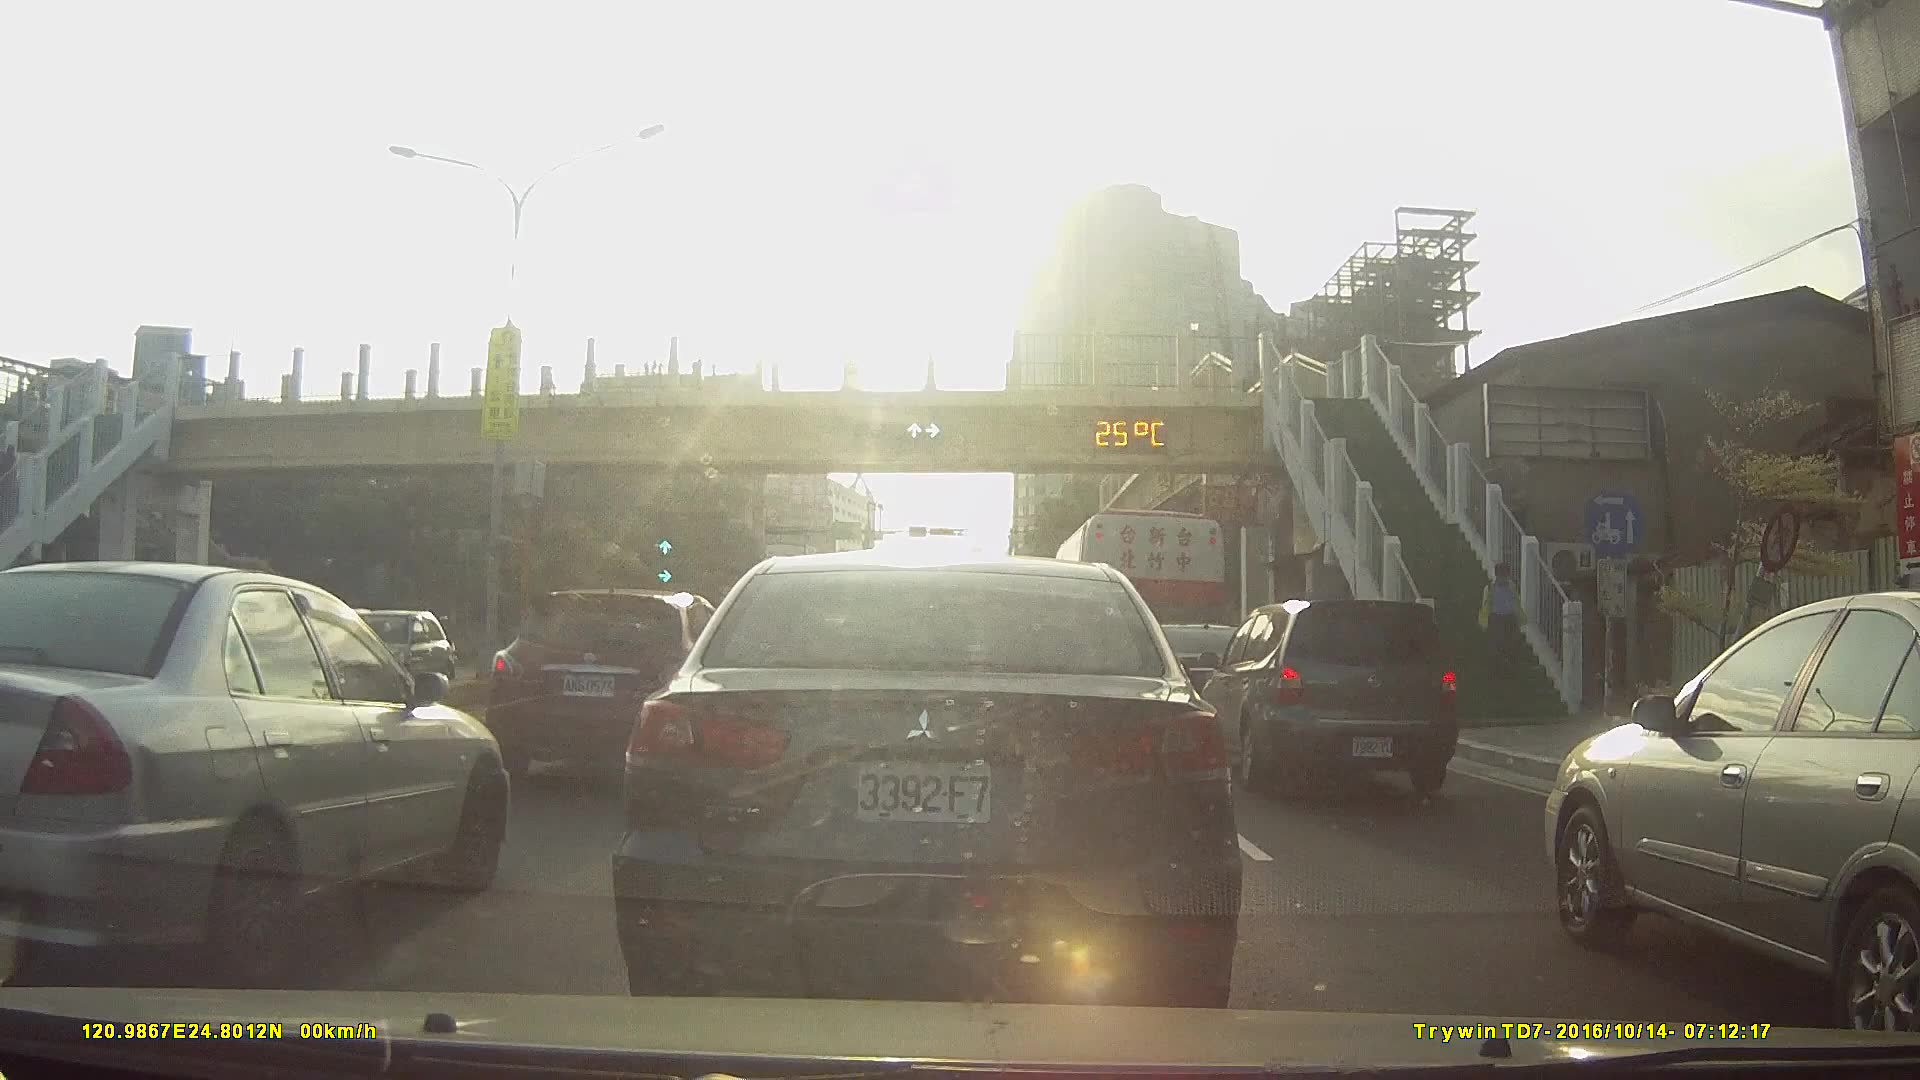pedestrian: (1480, 558, 1529, 672)
vehicle: (613, 552, 1243, 1008), (1, 562, 519, 971), (1535, 585, 1920, 1045), (1195, 597, 1467, 797), (490, 586, 744, 781), (1106, 615, 1270, 732), (301, 605, 466, 706)
